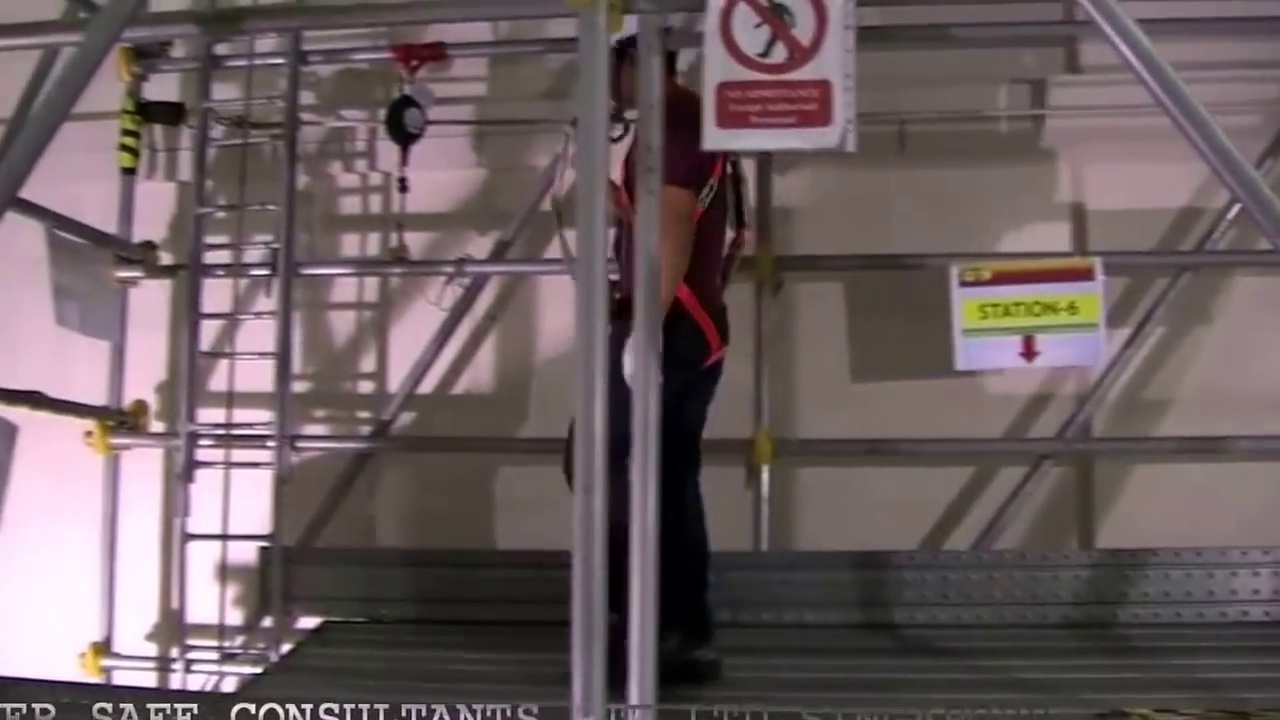harness: (692, 160, 750, 362)
